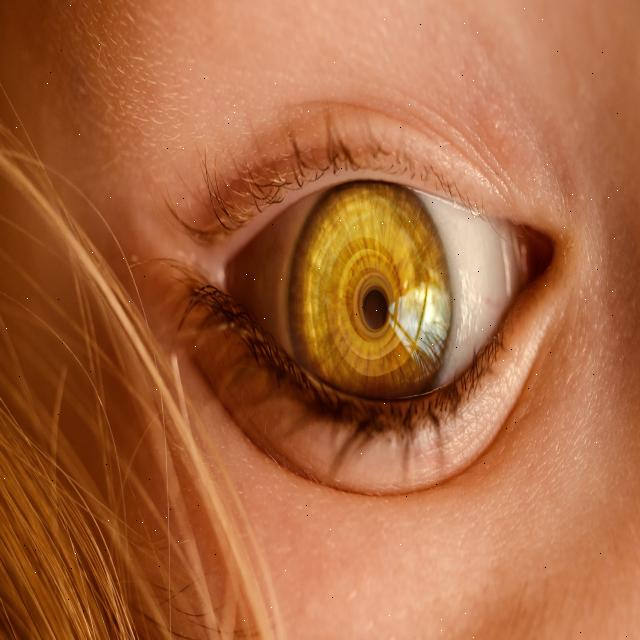Normal: (286, 157, 451, 446)
